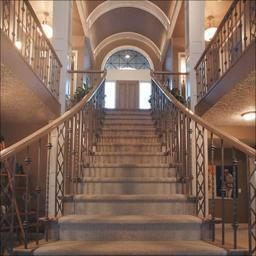Escaleras: (16, 107, 229, 254)
